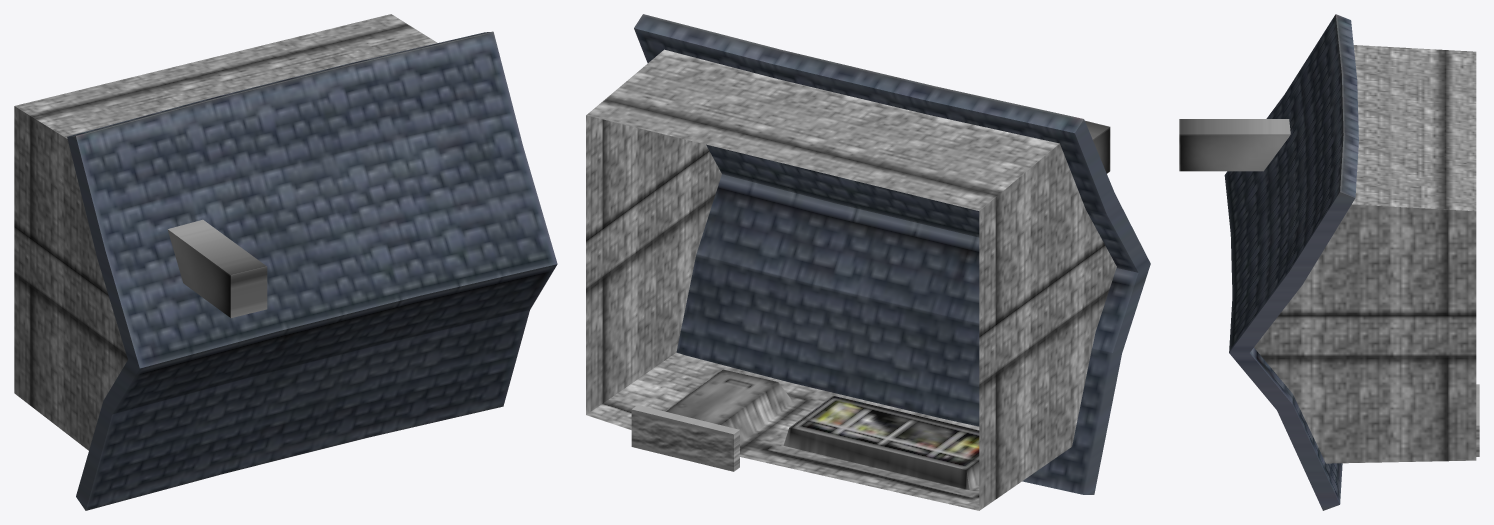
File: weaponshop_wtf.obj
3 renders of one model, left to right at view 1: azimuth 30°, elevation 25°; view 2: azimuth 150°, elevation 25°; view 3: azimuth 270°, elevation 25°, orthographic. The views are drawn at different scales.
Visible parts, largest first — view 1: group5, group3, group2; view 2: group5, group3, group2, group4, group7; view 3: group3, group5, group2.
Boxes of the visible parts, x1,y1,x2,y2 form: group5: (67,31,557,510); group3: (14,106,267,450); group2: (15,14,437,138); group5: (634,14,1150,494); group3: (586,115,1116,510); group2: (586,49,1059,210); group4: (586,352,979,510); group7: (631,405,739,471); group3: (1179,119,1476,463); group5: (1224,14,1358,510); group2: (1352,45,1476,211).
Size of the model in its own units: 660 by 552 by 471.
